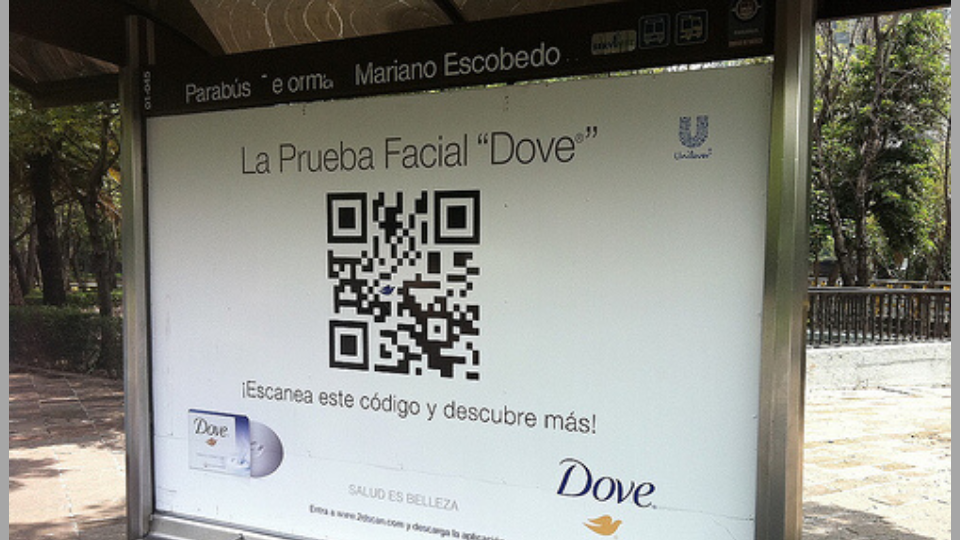qr_code: (318, 187, 495, 383)
